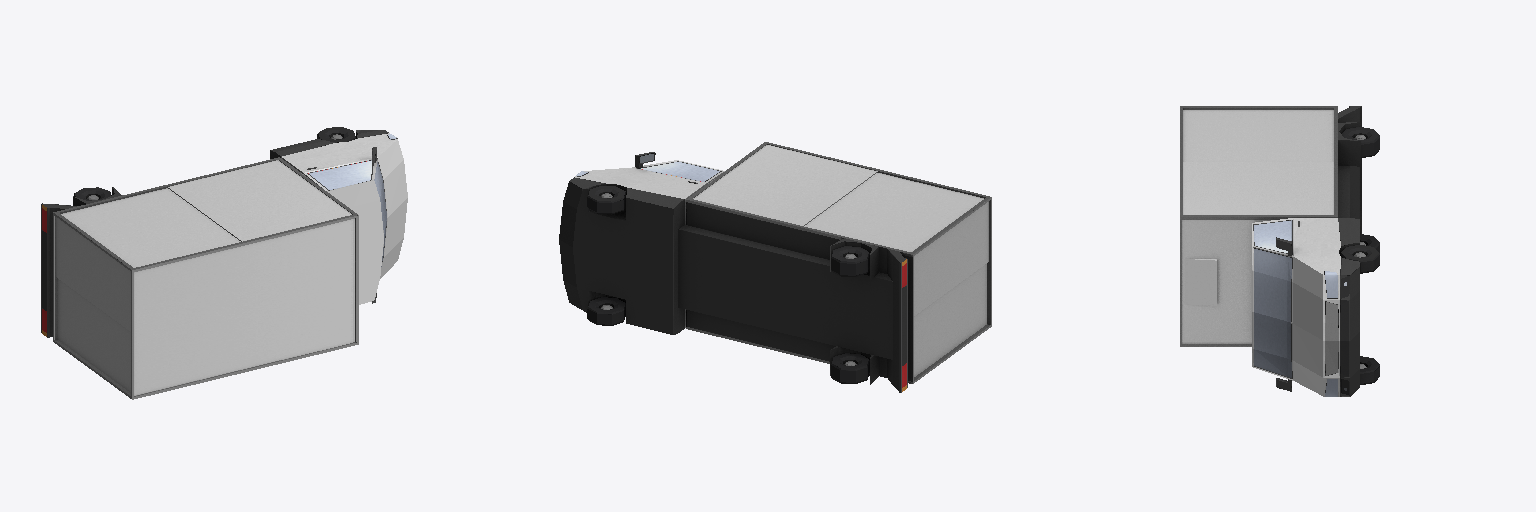
3 renders of one model, left to right at view 1: azimuth 30°, elevation 25°; view 2: azimuth 150°, elevation 25°; view 3: azimuth 270°, elevation 25°, orthographic.
Parts seen in each view (by area): view 1: truck_Cube.000; view 2: truck_Cube.000; view 3: truck_Cube.000.
Part boxes in pixels (bbox=[...]): truck_Cube.000: bbox=[41, 127, 407, 399]; truck_Cube.000: bbox=[559, 142, 991, 392]; truck_Cube.000: bbox=[1180, 106, 1379, 396].
Bounding box in the file's own units: 4 × 1.63 × 2.
1 materials, 1 textured.